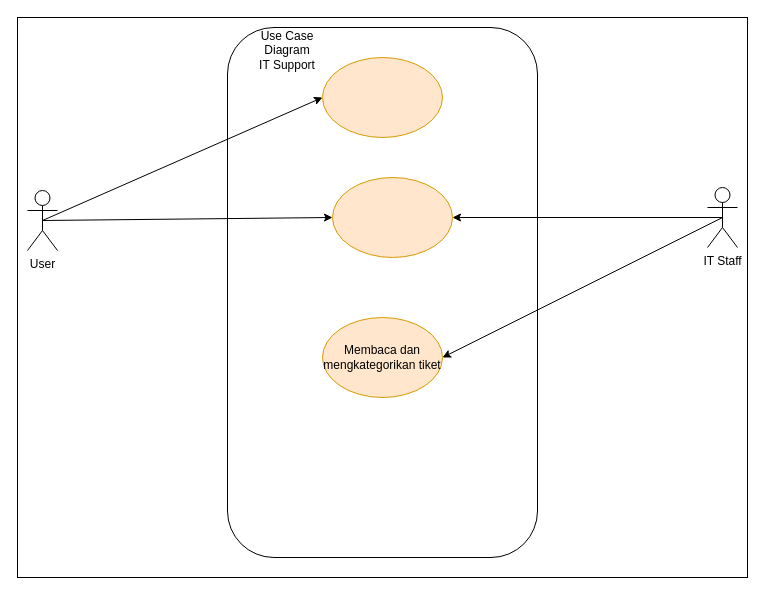
The diagram is 765 pixels wide and 595 high, and some of its shapes have lost their labels. Here are the shapes that lost their labels. From the top down, the centre of each, then its label:
At (382,97): "Pembuatan tiket request".
At (392,217): "Pemberitahuan notifikasi".
